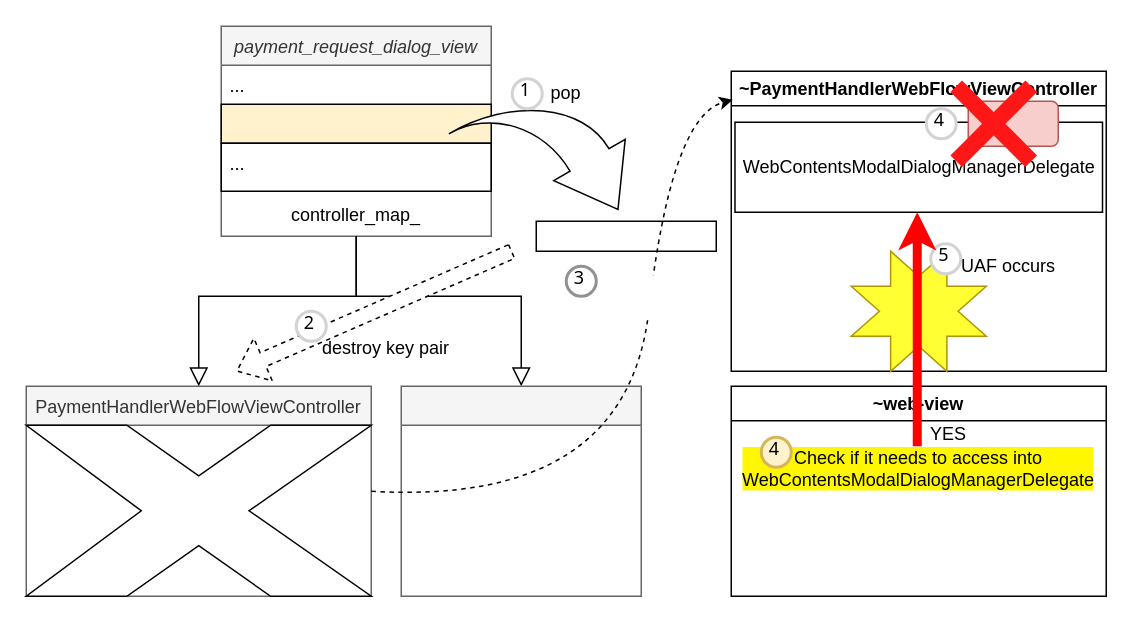
This 1133x623 diagram has some shape labels left out. Each missing label, with the centre of its shape:
automatically executed: the point at 652,297
one of web-views: the point at 625,235
RESET: the point at 1012,123
View Stack: the point at 355,123
web-view: the point at 520,490
